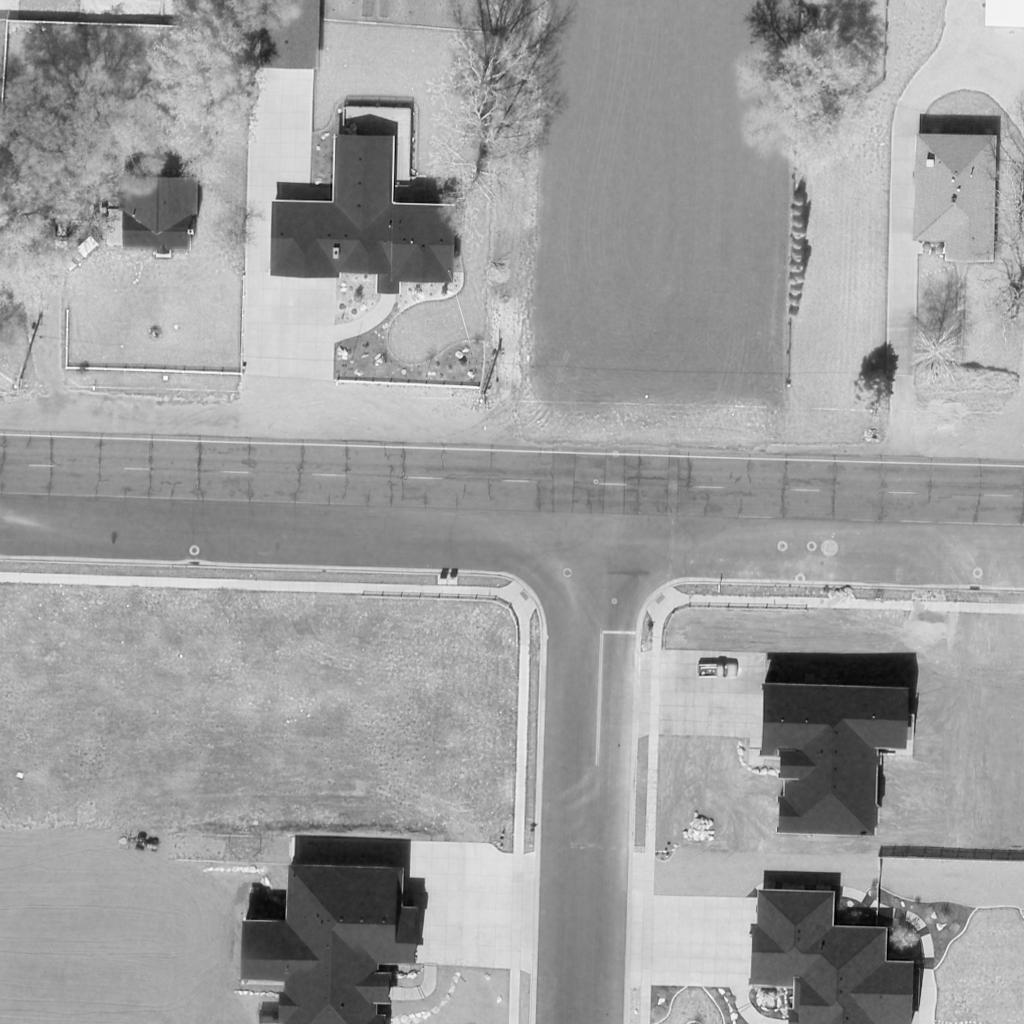vehicle: (61, 237, 99, 271), (129, 830, 163, 860), (697, 661, 739, 679)
